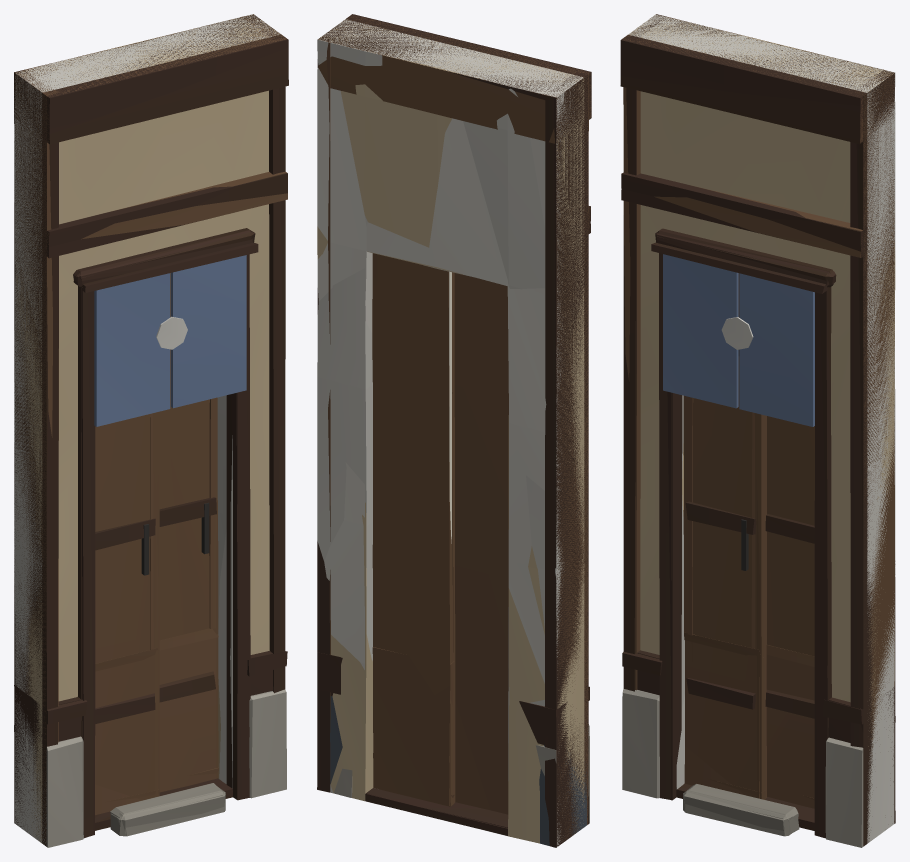
The model's file is wall.door.glb.
3 renders of one model, left to right at view 1: azimuth 30°, elevation 25°; view 2: azimuth 150°, elevation 25°; view 3: azimuth 330°, elevation 25°, orthographic.
Visible parts, largest first — view 1: wall.door.v1.mesh, wall.door.v2.mesh, wall.door.v0.mesh; view 2: wall.door.v2.mesh, wall.door.v0.mesh, wall.door.v1.mesh; view 3: wall.door.v1.mesh, wall.door.v2.mesh, wall.door.v0.mesh.
Boxes of the visible parts, x1,y1,x2,y2 form: wall.door.v1.mesh: (14,14,287,845); wall.door.v2.mesh: (14,14,288,847); wall.door.v0.mesh: (14,15,288,842); wall.door.v2.mesh: (317,18,591,835); wall.door.v0.mesh: (317,14,591,847); wall.door.v1.mesh: (317,16,591,845); wall.door.v1.mesh: (623,15,895,836); wall.door.v2.mesh: (620,14,895,847); wall.door.v0.mesh: (620,14,895,843).
Size of the model in its own units: 0.9999 by 3 by 0.3048.
